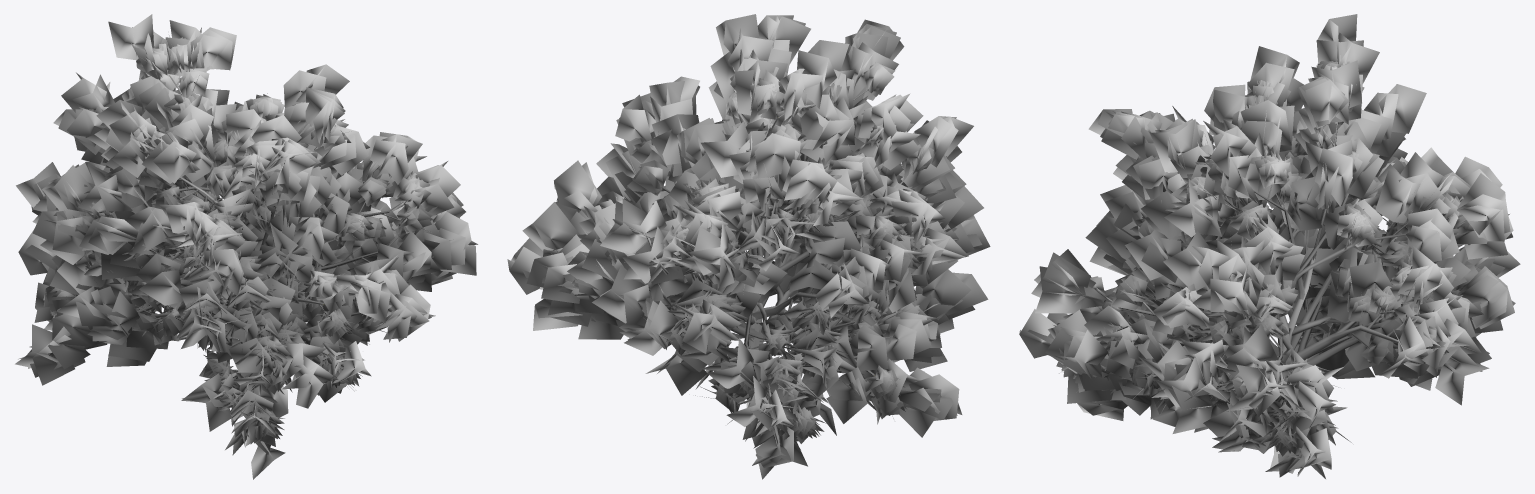
Rendered from SycamoreNorthAmerican_D.fbx.
3 views of the same model, side by side, from view 1: azimuth 30°, elevation 25°; view 2: azimuth 150°, elevation 25°; view 3: azimuth 270°, elevation 25° (orthographic). The views are drawn at different scales.
Parts seen in each view (by area): view 1: SycamoreNorthAmerican_D_LOD0; view 2: SycamoreNorthAmerican_D_LOD0; view 3: SycamoreNorthAmerican_D_LOD0.
Boxes of the visible parts, left/top/right/bottom form: SycamoreNorthAmerican_D_LOD0: left=15, top=14, right=477, bottom=479; SycamoreNorthAmerican_D_LOD0: left=507, top=14, right=990, bottom=479; SycamoreNorthAmerican_D_LOD0: left=1019, top=14, right=1520, bottom=478.
Bounding box in the file's own units: 2682 × 2293 × 2556.
